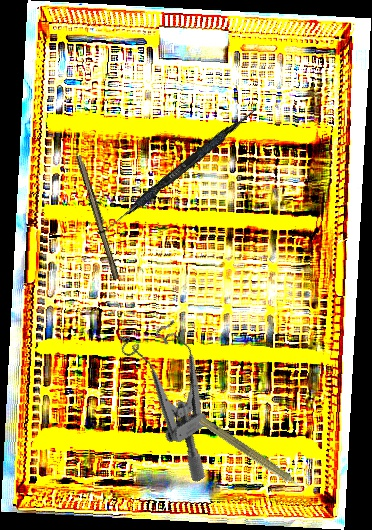Handpiece: (195, 414, 311, 499)
Scalpel Handle: (73, 154, 124, 280)
Spatula Surgical: (96, 102, 259, 242)
Speculum: (105, 307, 255, 484)
